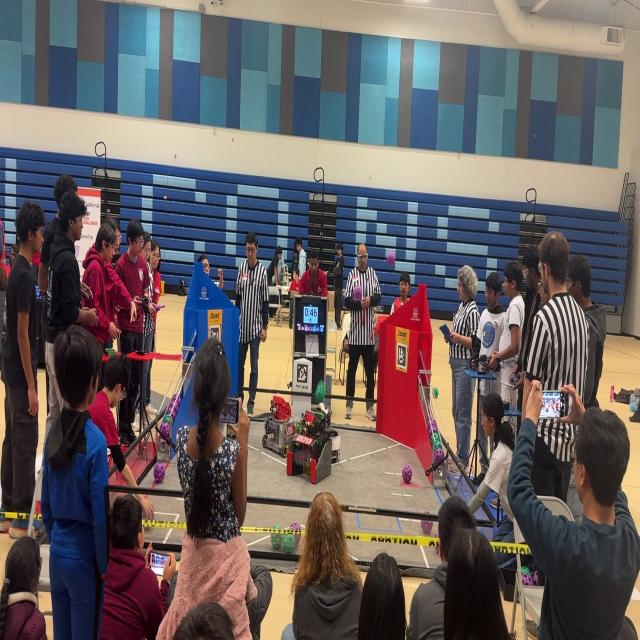artifact_green: (282, 534, 295, 553), (315, 380, 325, 404), (421, 520, 433, 535), (629, 395, 639, 413), (163, 416, 173, 429), (532, 571, 538, 586), (294, 534, 301, 546), (522, 566, 531, 575), (282, 444, 288, 457), (163, 415, 172, 422), (433, 387, 438, 398), (296, 424, 302, 433), (170, 394, 176, 402), (273, 524, 281, 529), (435, 531, 439, 539)
artifact_purple: (282, 534, 297, 553), (154, 463, 165, 482), (402, 465, 412, 483), (421, 520, 433, 535), (160, 422, 170, 439), (434, 448, 444, 465), (522, 574, 533, 586), (354, 285, 362, 301), (387, 251, 395, 267), (163, 415, 172, 428), (532, 570, 539, 586), (166, 401, 174, 414), (521, 566, 532, 575), (429, 418, 437, 430), (169, 400, 177, 411), (170, 408, 177, 420), (171, 402, 178, 413), (295, 534, 301, 546), (427, 424, 432, 437), (163, 414, 171, 422), (172, 399, 179, 408), (170, 394, 176, 404), (176, 396, 181, 406), (172, 412, 176, 421), (435, 531, 438, 538)
